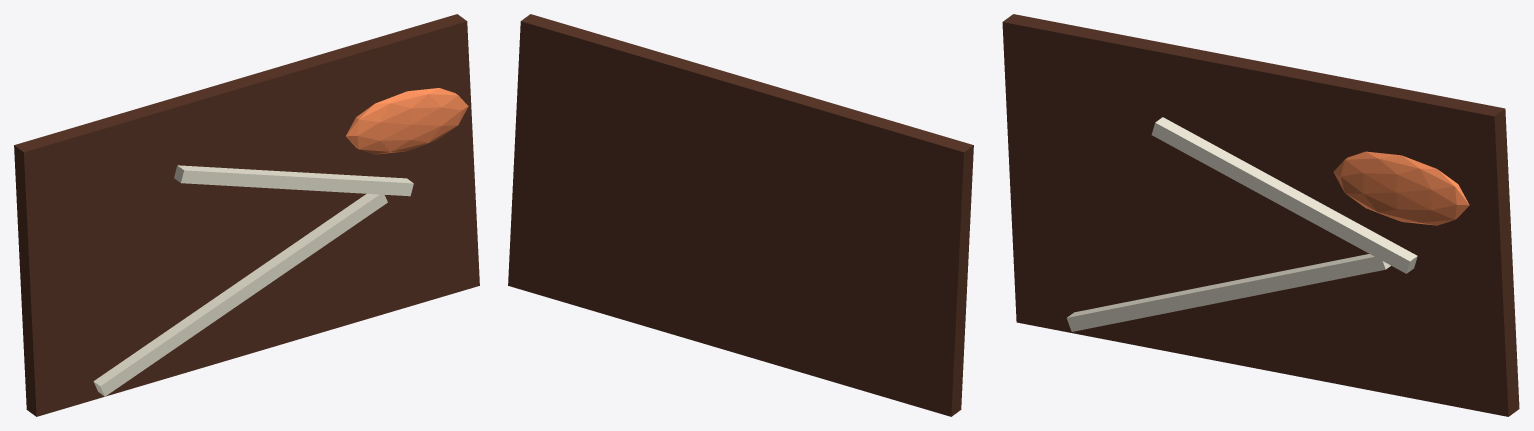
File: 03_weathering_wear_overlay_3.glb
The picture shows the model from 3 angles, left to right: view 1: azimuth 30°, elevation 25°; view 2: azimuth 150°, elevation 25°; view 3: azimuth 330°, elevation 25°; orthographic projection. The views are drawn at different scales.
Visible parts, largest first — view 1: wear_plate, scratch_a, rust_or_moss_spot, scratch_b; view 2: wear_plate; view 3: wear_plate, rust_or_moss_spot, scratch_b, scratch_a.
Boxes of the visible parts, bbox=[...] form: wear_plate: bbox=[14, 14, 479, 416]; scratch_a: bbox=[93, 194, 387, 396]; rust_or_moss_spot: bbox=[346, 88, 468, 154]; scratch_b: bbox=[174, 165, 413, 196]; wear_plate: bbox=[508, 14, 973, 416]; wear_plate: bbox=[1002, 14, 1519, 416]; rust_or_moss_spot: bbox=[1333, 151, 1469, 225]; scratch_b: bbox=[1151, 117, 1417, 273]; scratch_a: bbox=[1066, 254, 1390, 331].
Bounding box in the file's own units: 1.34 × 0.8135 × 0.134.
